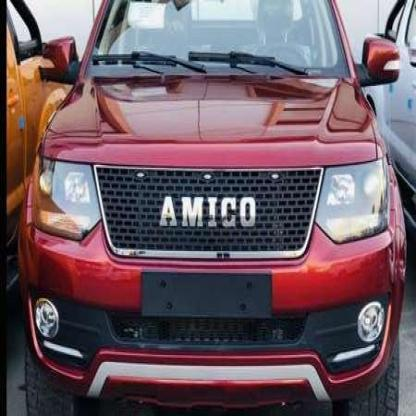Car: (0, 0, 407, 416), (0, 0, 77, 304), (350, 0, 415, 282)
